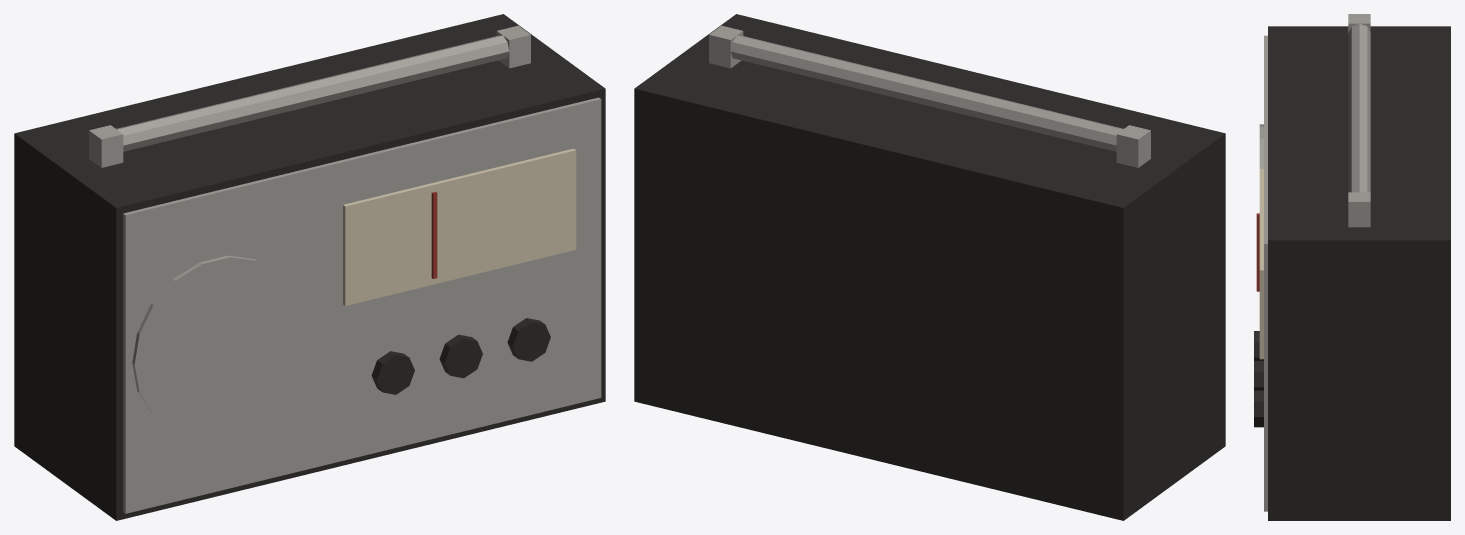
Rendered from shortwave-radio.glb.
3 views of the same model, side by side, from view 1: azimuth 30°, elevation 25°; view 2: azimuth 150°, elevation 25°; view 3: azimuth 270°, elevation 25° (orthographic). The views are drawn at different scales.
Parts seen in each view (by area): view 1: brushed, plastic-dark, paper; view 2: plastic-dark, brushed; view 3: plastic-dark, brushed, paper, accent-warm.
Part boxes in pixels (x1,y1,x2,y2): brushed: (89, 25, 601, 513); plastic-dark: (14, 14, 605, 520); paper: (343, 148, 576, 305); plastic-dark: (634, 14, 1225, 520); brushed: (709, 25, 1150, 167); plastic-dark: (1254, 26, 1450, 520); brushed: (1259, 14, 1370, 511); paper: (1259, 169, 1263, 359); accent-warm: (1256, 213, 1259, 291).
Bounding box in the file's own units: 0.36 × 0.24 × 0.14.
